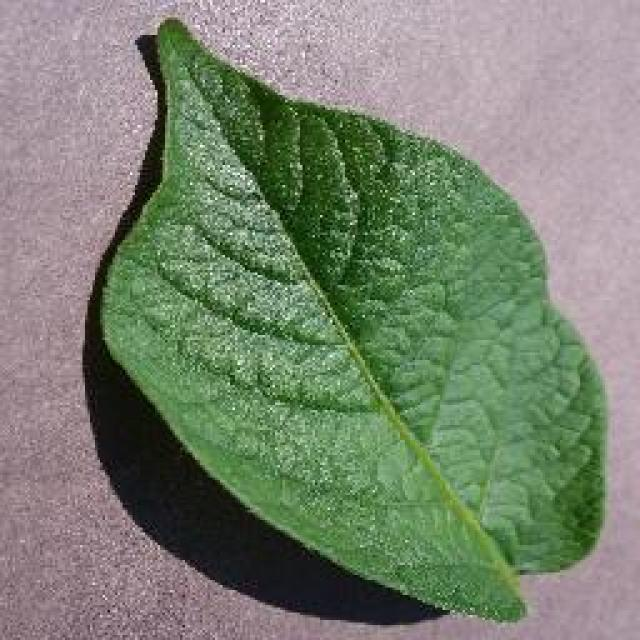Potato: (95, 15, 610, 623)
